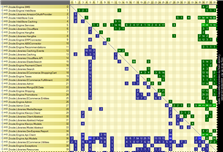

This screenshot's page, from the dashboard's own definition file:
{"tool":"powerbi","page":{"name":"Order Frequency","canvas":[1280,720],"ordinal":2},"visuals":[{"type":"pieChart","title":"Order Frequency By Country","fields":{"Category":["View_OrderDetails.CountryName"],"Y":["CountNonNull(View_OrderDetails.OmsOrderId)"]},"box":[21.8,21.8,314.1,194.9],"z":0},{"type":"pieChart","title":"Yearly Order Frequency","fields":{"Category":["View_OrderDetails (2).Year Hierarchy.Year"],"Y":["CountNonNull(View_OrderDetails.OmsOrderId)"]},"box":[347.7,21.8,240.2,194.9],"z":1000},{"type":"barChart","title":"Order Frequency by City","fields":{"Y":["CountNonNull(View_OrderDetails.OmsOrderId)"],"Category":["View_OrderDetails.BillingCity"]},"box":[881.9,18.5,371.2,203.3],"z":2000},{"type":"lineChart","title":"Order Frequency by Day","fields":{"Category":["View_OrderDetails.DayName"],"Y":["Count(View_OrderDetails.OmsOrderId)"]},"box":[20.2,221.7,1258.2,139.4],"z":3000},{"type":"clusteredColumnChart","title":"Order Frequency by Month","fields":{"Category":["View_OrderDetails.Column"],"Y":["CountNonNull(View_OrderDetails.OmsOrderId)"]},"box":[21.8,364.5,1258.2,178.1],"z":4000},{"type":"lineChart","title":"Order Frequency By Hours (24 hrs Format)","fields":{"Category":["View_OrderDetails.OrderTime"],"Y":["Count(View_OrderDetails.OmsOrderId)"]},"box":[21.8,547.6,1258.2,170.7],"z":5000},{"type":"pieChart","title":"Order Frequency By State","fields":{"Y":["CountNonNull(View_OrderDetails.OmsOrderId)"],"Category":["View_OrderDetails.BillingStateCode"]},"box":[596.8,18.4,273.6,194.7],"z":6000}]}

Visuals, with their boxes on the page's 1280x720 design canvas (x1, y1, x2, y2). These are canvas units, not pixel positions in the 223x152 screenshot, which may show the page scaled, cropped or inside an application window:
"Order Frequency By Country" pieChart: select_region(22, 22, 336, 217)
"Yearly Order Frequency" pieChart: select_region(348, 22, 588, 217)
"Order Frequency by City" barChart: select_region(882, 18, 1253, 222)
"Order Frequency by Day" lineChart: select_region(20, 222, 1278, 361)
"Order Frequency by Month" clusteredColumnChart: select_region(22, 364, 1280, 543)
"Order Frequency By Hours (24 hrs Format)" lineChart: select_region(22, 548, 1280, 718)
"Order Frequency By State" pieChart: select_region(597, 18, 870, 213)
